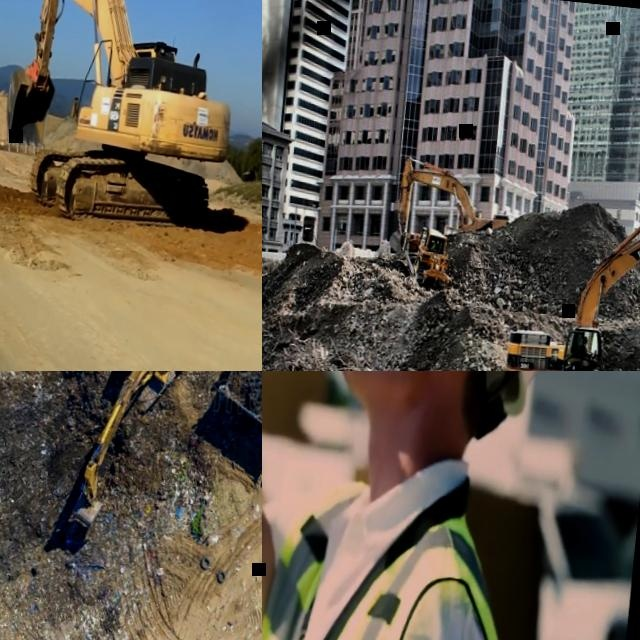NO-Hardhat: (582, 335, 587, 341)
NO-Mask: (335, 371, 490, 415)
Person: (262, 371, 571, 640), (579, 335, 592, 357), (429, 240, 437, 252)
Safety Vest: (262, 455, 521, 640), (429, 242, 435, 250)
machinery: (0, 0, 248, 233), (49, 371, 204, 562), (497, 185, 640, 371), (385, 155, 514, 268), (210, 371, 262, 472), (400, 225, 456, 290)
